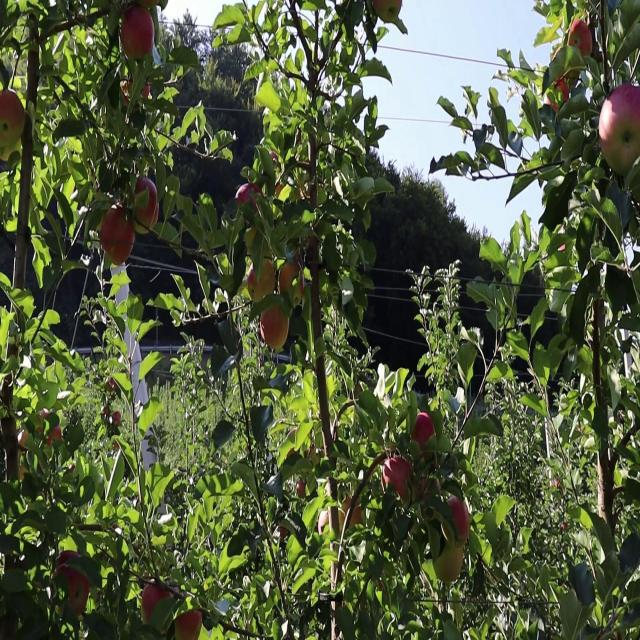apple: (600, 92, 640, 178), (100, 206, 136, 268), (120, 7, 156, 64), (56, 561, 91, 617), (260, 305, 291, 354), (132, 177, 160, 231), (600, 92, 622, 155), (64, 568, 91, 617), (616, 85, 640, 140), (436, 540, 464, 587), (444, 497, 472, 544), (280, 255, 305, 304), (0, 92, 27, 137), (236, 184, 265, 224), (248, 263, 277, 302), (568, 21, 595, 62), (144, 583, 171, 622), (412, 412, 436, 453), (388, 455, 412, 494), (120, 78, 151, 108), (372, 0, 403, 27), (548, 78, 571, 114), (176, 611, 204, 639), (397, 462, 414, 503), (344, 497, 365, 528), (384, 455, 403, 489), (120, 78, 139, 108), (8, 455, 26, 482), (416, 476, 430, 505), (48, 426, 64, 448), (296, 476, 308, 500), (4, 142, 15, 164), (20, 426, 29, 450)
